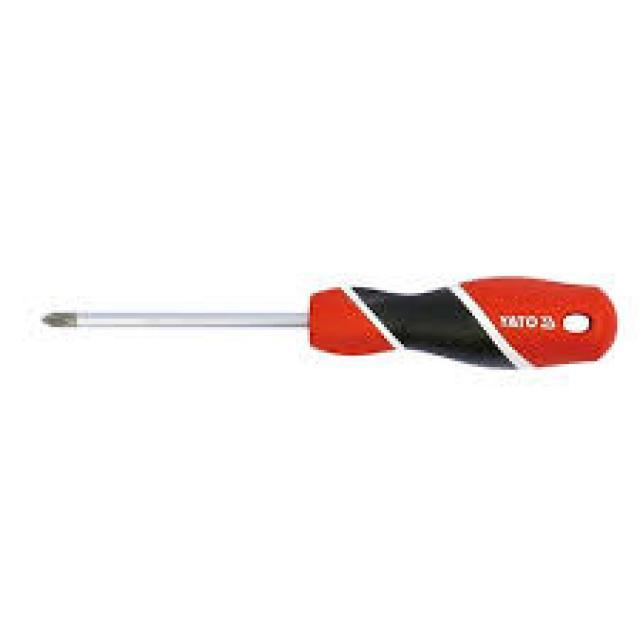screwdriver: (36, 272, 618, 372)
